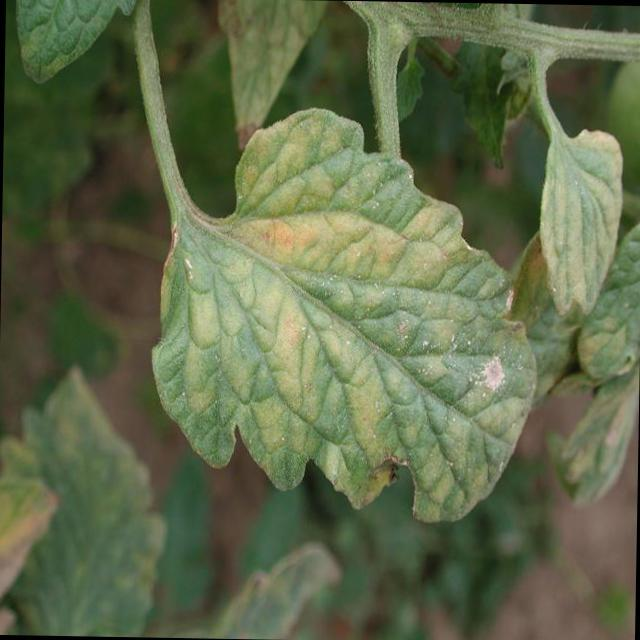Leaf Mold: (146, 105, 552, 547), (531, 126, 620, 340)
